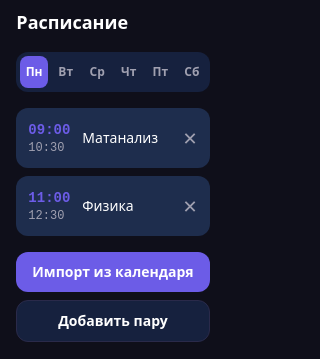
ScheduleScreen › switches day tabs
The width and height of the screenshot is (320, 359).
Click the button "Вт" at (66, 72), box [52,56,80,88]
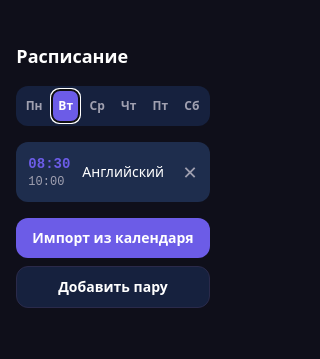
Result: the text "Английский" is shown at [82,162,170,182]
Result: the text "Матанализ" is gone
